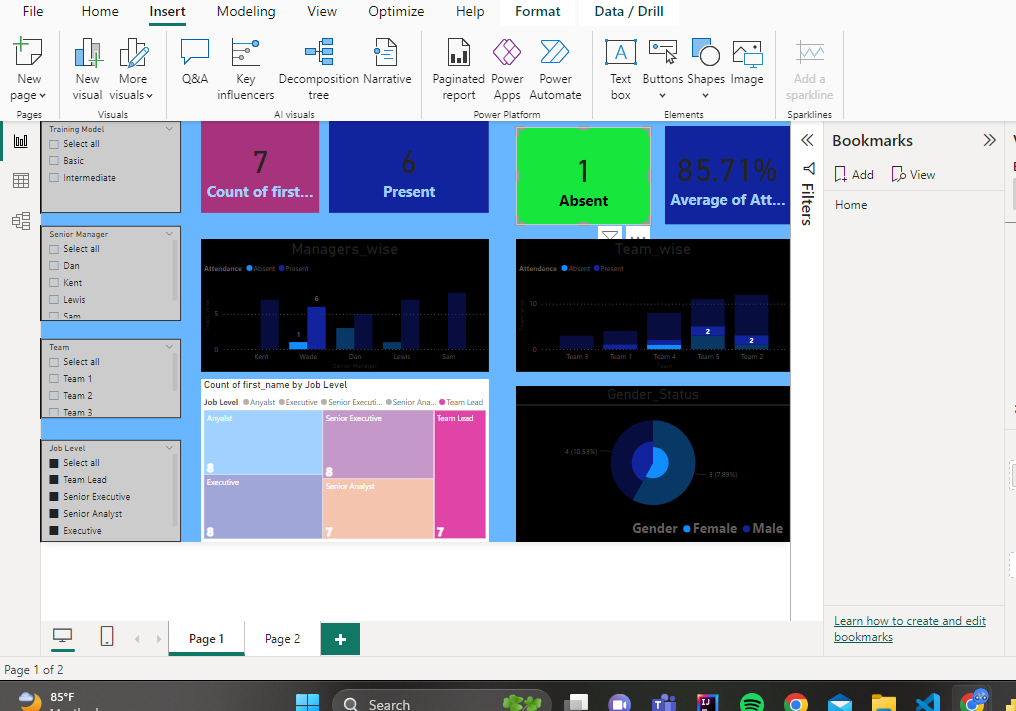

This screenshot's page, from the dashboard's own definition file:
{"tool":"powerbi","page":{"name":"Page 1","canvas":[1280,720],"ordinal":0},"visuals":[{"type":"card","fields":{"Values":["Data.first_name"]},"box":[273.4,0,201.7,157.2],"z":0},{"type":"card","fields":{"Values":["Data.first_name"]},"box":[492.2,0,273.4,157.2],"z":1},{"type":"card","fields":{"Values":["Data.first_name"]},"box":[811.7,10.3,230.7,167.5],"z":2},{"type":"card","fields":{"Values":["Data.Attendance Status"]},"box":[1065.6,8.6,214.6,168.5],"z":3},{"type":"columnChart","title":"Team_wise ","fields":{"Category":["Data.Team"],"Y":["Data.first_name"],"Series":["Data.Attendance"]},"box":[811.7,201.7,468.3,227.3],"z":4},{"type":"clusteredColumnChart","title":"Managers_wise ","fields":{"Category":["Data.Senior Manager"],"Y":["Data.first_name"],"Series":["Data.Attendance"]},"box":[273.4,201.7,492.2,227.3],"z":5},{"type":"pieChart","title":"Gender_Status ","fields":{"Category":["Data.Gender"],"Y":["Data.first_name"]},"box":[811.7,452.9,468.3,266.6],"z":6},{"type":"treemap","fields":{"Group":["Data.Job Level"],"Values":["Data.first_name"]},"box":[273.4,440.9,492.2,278.6],"z":7},{"type":"slicer","fields":{"Values":["Data.Training Model"]},"box":[0,0,239.3,157.2],"z":8},{"type":"slicer","fields":{"Values":["Data.Senior Manager"]},"box":[0,179.4,239.3,162.3],"z":9},{"type":"slicer","fields":{"Values":["Data.Team"]},"box":[0,372.6,239.3,135],"z":10},{"type":"slicer","fields":{"Values":["Data.Job Level"]},"box":[0,545.2,239.3,174.3],"z":11}]}

Visuals, with their boxes on the page's 1280x720 design canvas (x1, y1, x2, y2). These are canvas units, not pixel positions in the 1016x711 screenshot, which may show the page scaled, cropped or inside an application window:
card - Data.first_name: 273,0,475,157
card - Data.first_name: 492,0,766,157
card - Data.first_name: 812,10,1042,178
card - Data.Attendance Status: 1066,9,1280,177
"Team_wise " columnChart: 812,202,1280,429
"Managers_wise " clusteredColumnChart: 273,202,766,429
"Gender_Status " pieChart: 812,453,1280,720
treemap - Data.Job Level x Data.first_name: 273,441,766,720
slicer - Data.Training Model: 0,0,239,157
slicer - Data.Senior Manager: 0,179,239,342
slicer - Data.Team: 0,373,239,508
slicer - Data.Job Level: 0,545,239,720
